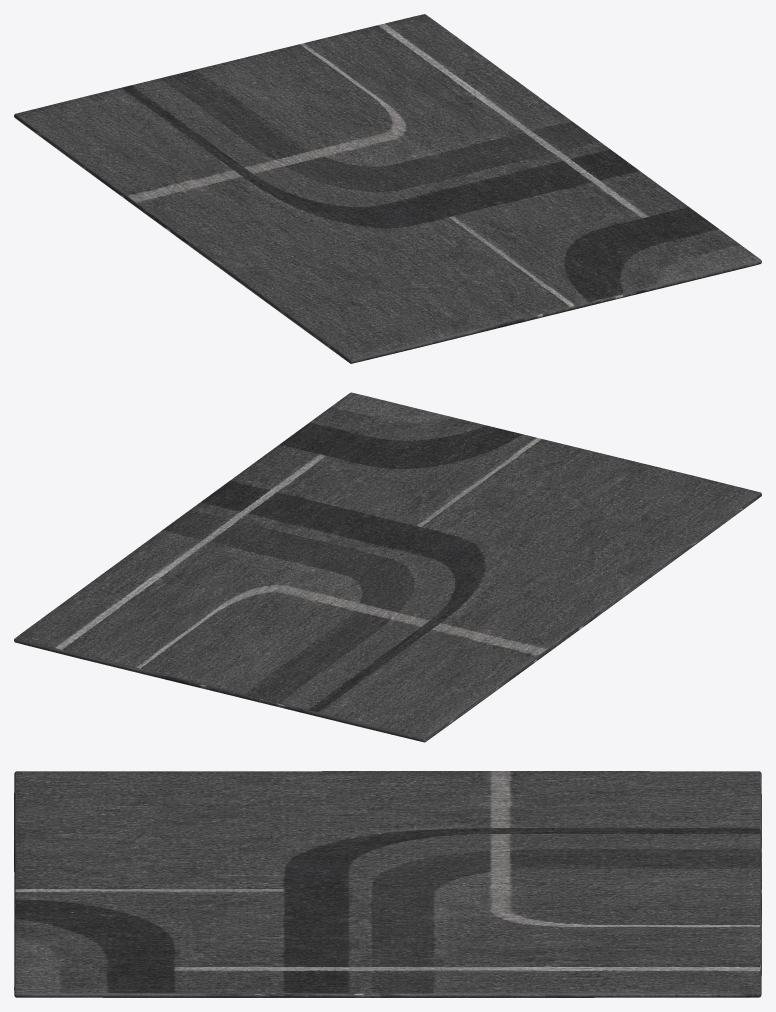
Rendered from Carpet.fbx.
3 renders of one model, top to bottom at view 1: azimuth 30°, elevation 25°; view 2: azimuth 150°, elevation 25°; view 3: azimuth 270°, elevation 25°, orthographic. The views are drawn at different scales.
Visible parts, largest first — view 1: Modern_Carpet; view 2: Modern_Carpet; view 3: Modern_Carpet.
Boxes of the visible parts, x1,y1,x2,y2 form: Modern_Carpet: (14,14,761,363); Modern_Carpet: (14,392,761,742); Modern_Carpet: (14,771,761,997).
Size of the model in its own units: 240 by 3.03 by 340.
Materials: 1 (1 with a texture image).
